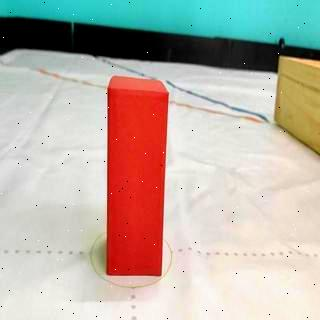redbox: (106, 75, 170, 277)
